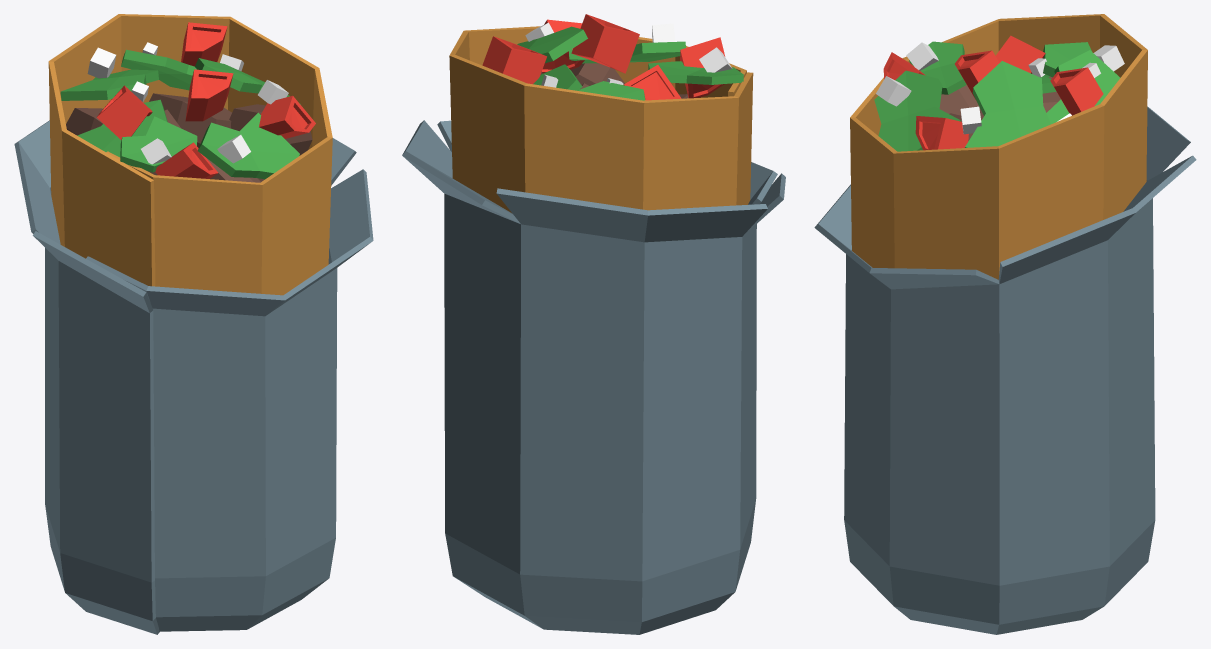
File: Burrito_01.obj
The picture shows the model from 3 angles, left to right: view 1: azimuth 30°, elevation 25°; view 2: azimuth 150°, elevation 25°; view 3: azimuth 270°, elevation 25°; orthographic projection. The views are drawn at different scales.
Visible parts, largest first — view 1: Burrito_01_Circle.007; view 2: Burrito_01_Circle.007; view 3: Burrito_01_Circle.007.
Part boxes in pixels (x1=…): Burrito_01_Circle.007: x1=14, y1=14, x2=373, y2=634; Burrito_01_Circle.007: x1=402, y1=14, x2=785, y2=634; Burrito_01_Circle.007: x1=814, y1=14, x2=1196, y2=634.
Size of the model in its own units: 6.41 by 9.81 by 6.18.
